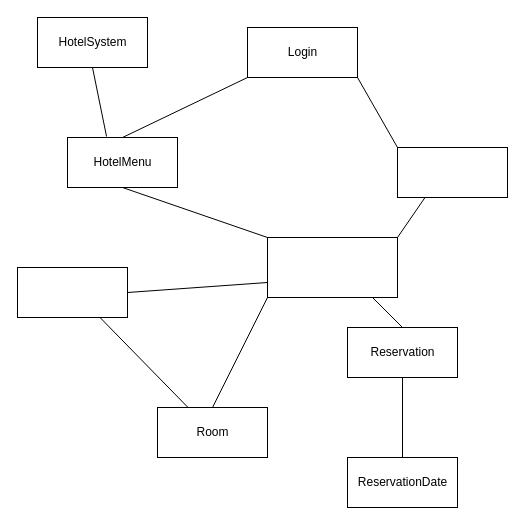
This 525x525 diagram has some shape labels left out. Here are the shapes that lost their labels. From the top down, the centre of each, then its label:
the point at 452,172: FileReader
the point at 332,267: ReservationCalendar
the point at 72,292: Hotels
